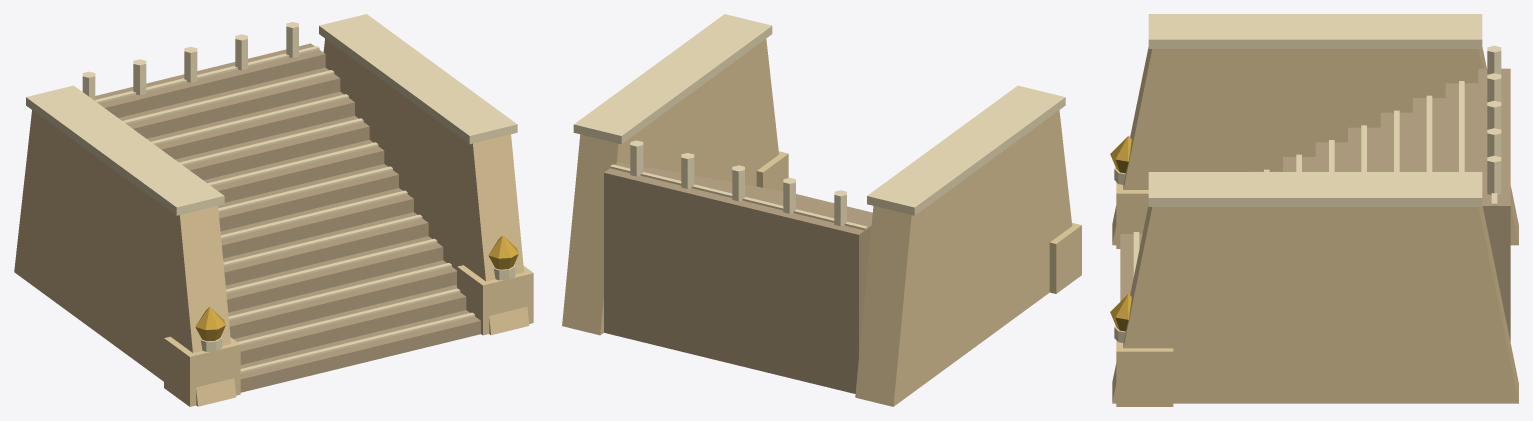
The model's file is stairs_wide.fbx.
3 renders of one model, left to right at view 1: azimuth 30°, elevation 25°; view 2: azimuth 150°, elevation 25°; view 3: azimuth 270°, elevation 25°, orthographic. The views are drawn at different scales.
Visible parts, largest first — view 1: stairs_wide; view 2: stairs_wide; view 3: stairs_wide.
Part boxes in pixels (x1=…): stairs_wide: x1=14, y1=14, x2=533, y2=406; stairs_wide: x1=562, y1=14, x2=1081, y2=406; stairs_wide: x1=1110, y1=14, x2=1518, y2=406.
Bounding box in the file's own units: 10.8 × 5.7 × 10.05.
1 material, 1 textured.
